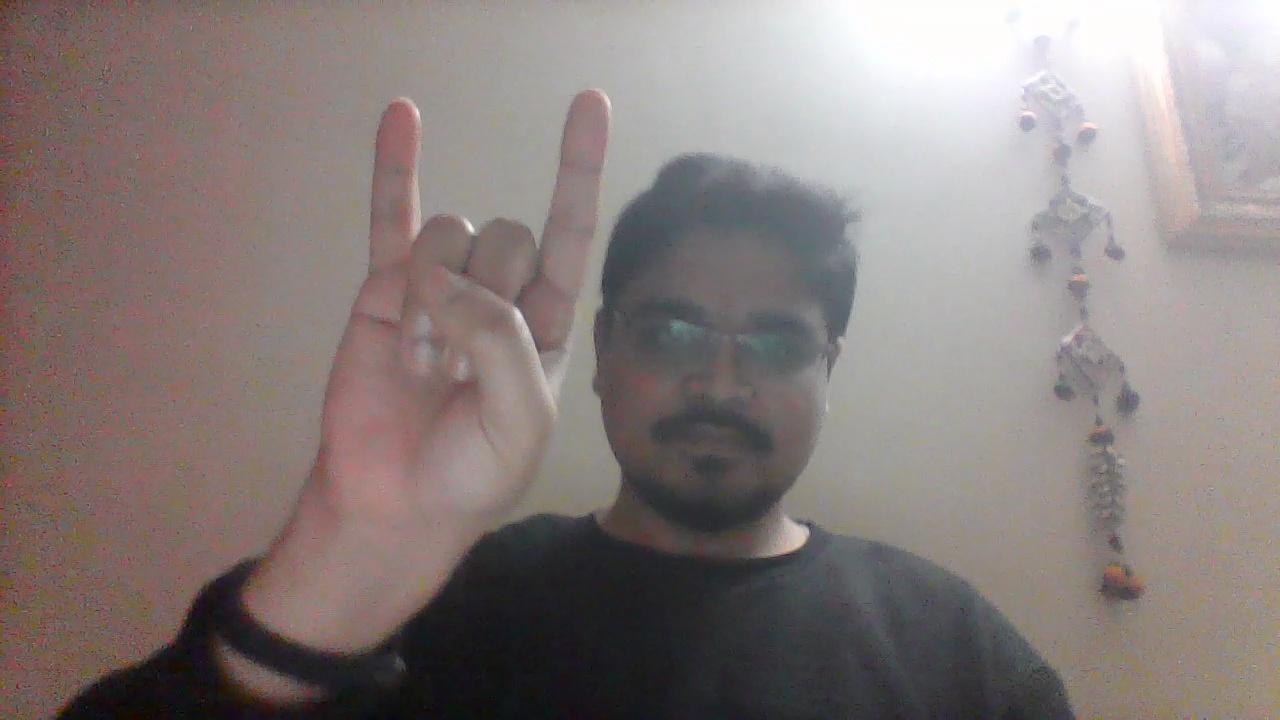ILoveYou: (309, 86, 615, 644)
